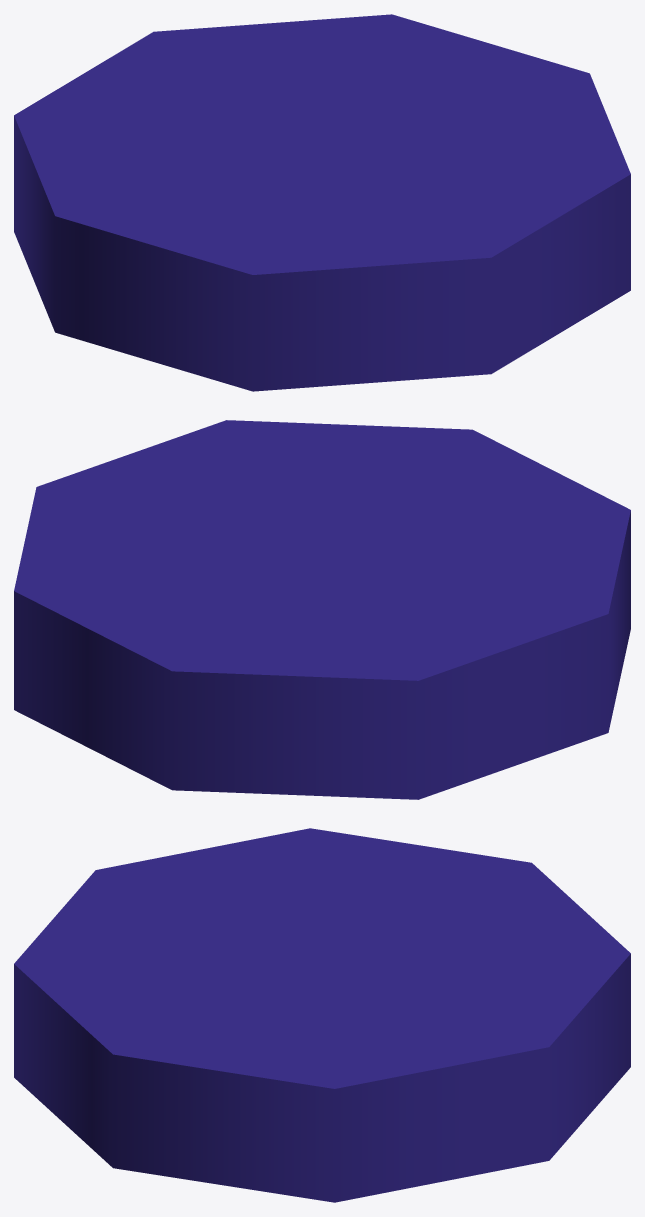
Rendered from moeda_poquer_azul.fbx.
The picture shows the model from 3 angles, top to bottom: view 1: azimuth 30°, elevation 25°; view 2: azimuth 150°, elevation 25°; view 3: azimuth 270°, elevation 25°; orthographic projection. The views are drawn at different scales.
Parts seen in each view (by area): view 1: moeda_poquer_azul; view 2: moeda_poquer_azul; view 3: moeda_poquer_azul.
Boxes of the visible parts, x1,y1,x2,y2 form: moeda_poquer_azul: [14, 14, 630, 391]; moeda_poquer_azul: [14, 420, 630, 799]; moeda_poquer_azul: [14, 828, 630, 1202].
Size of the model in its own units: 5.46 by 1.11 by 5.46.
